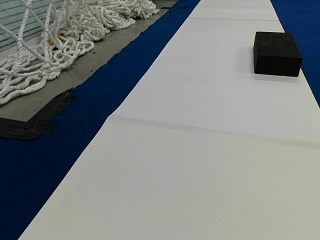block: (253, 31, 301, 77)
